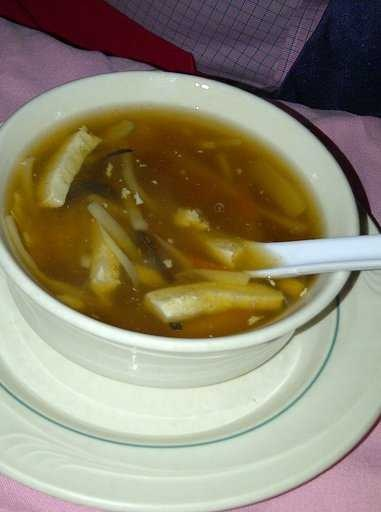soup: (1, 104, 340, 315)
